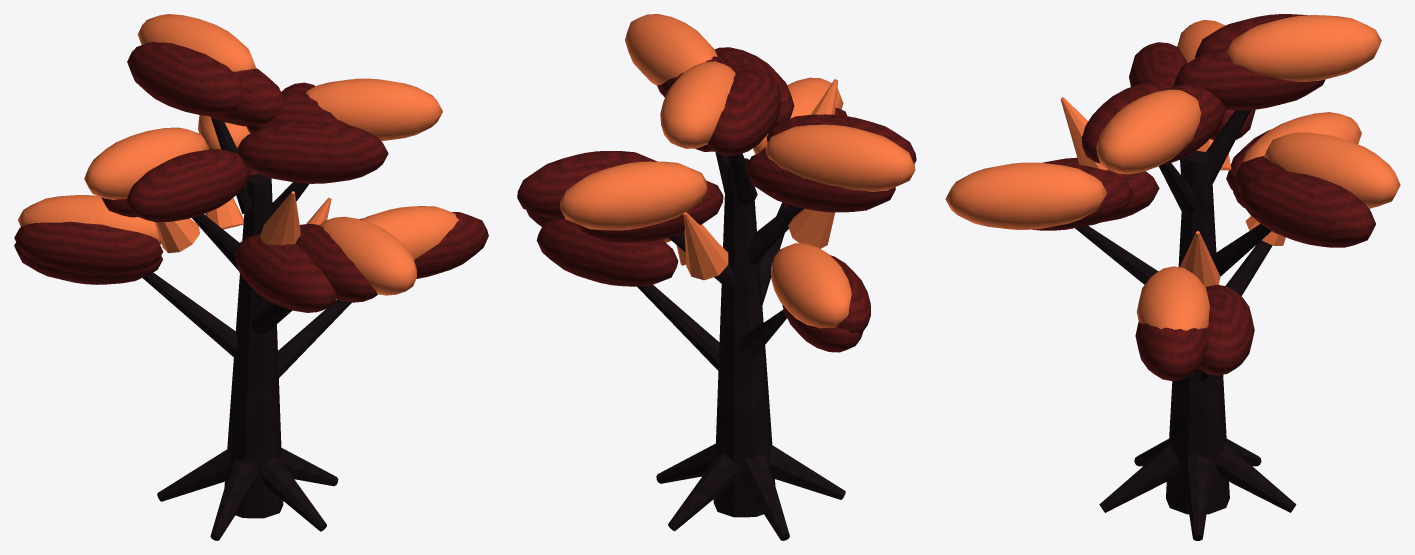
The model's file is planta-4.glb.
3 views of the same model, side by side, from view 1: azimuth 30°, elevation 25°; view 2: azimuth 150°, elevation 25°; view 3: azimuth 270°, elevation 25° (orthographic). The views are drawn at different scales.
Visible parts, largest first — view 1: Folhagem.007, Folhagem.010, Tronco.012; view 2: Folhagem.010, Folhagem.007, Tronco.012; view 3: Folhagem.010, Folhagem.007, Tronco.012.
Part boxes in pixels (x1=…): Folhagem.007: x1=14, y1=42, x2=488, y2=312; Folhagem.010: x1=18, y1=14, x2=458, y2=295; Tronco.012: x1=143, y1=117, x2=351, y2=540; Folhagem.010: x1=560, y1=14, x2=915, y2=328; Folhagem.007: x1=517, y1=47, x2=916, y2=352; Tronco.012: x1=637, y1=152, x2=845, y2=540; Folhagem.010: x1=945, y1=15, x2=1400, y2=330; Folhagem.007: x1=1032, y1=14, x2=1375, y2=381; Tronco.012: x1=1075, y1=110, x2=1296, y2=540.
Bounding box in the file's own units: 1.02 × 1.1 × 0.9509.
3 materials, 2 textured.
